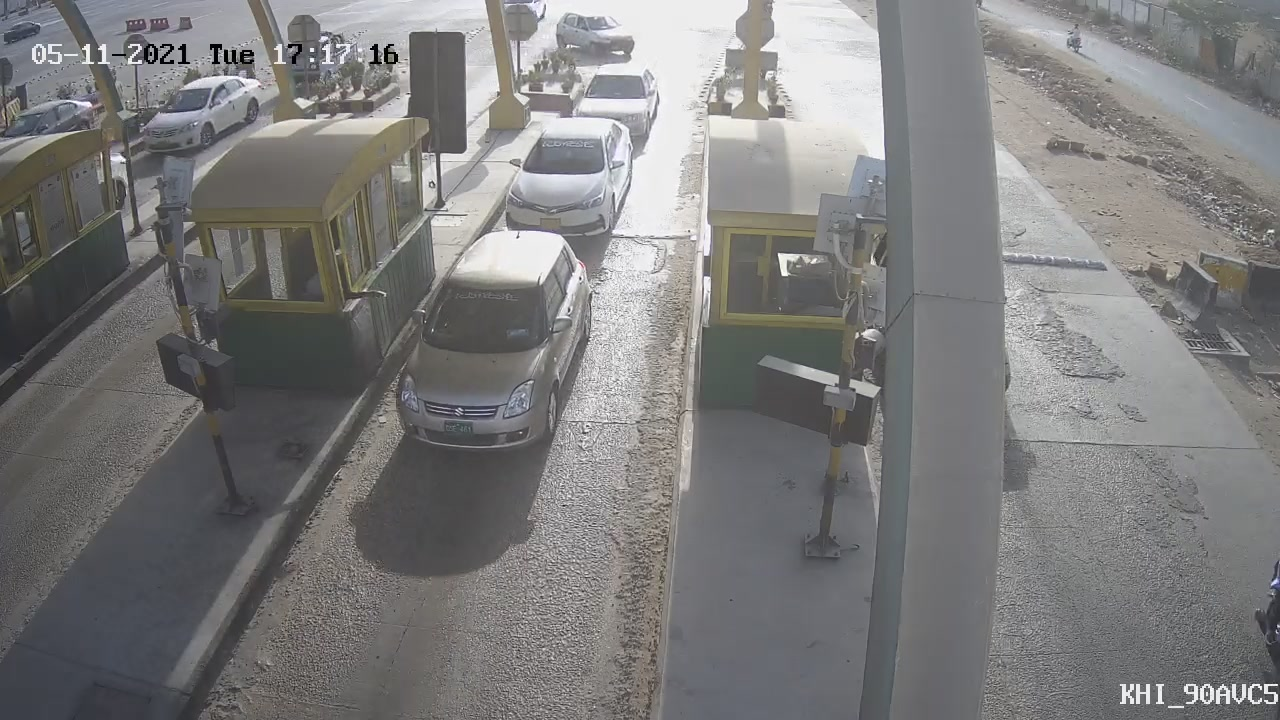F1: (382, 217, 604, 475), (491, 105, 646, 261)
